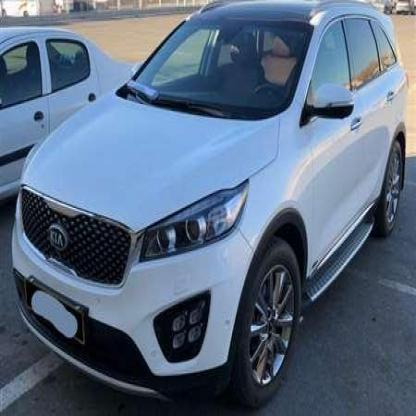Car: (14, 0, 407, 392), (0, 11, 144, 215)
